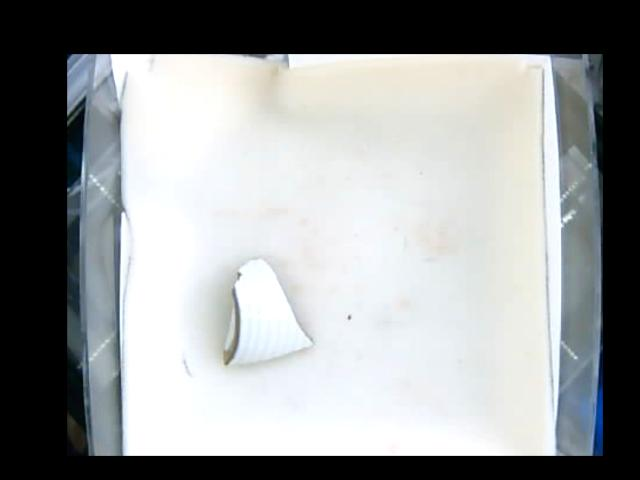China: (222, 260, 314, 367)
